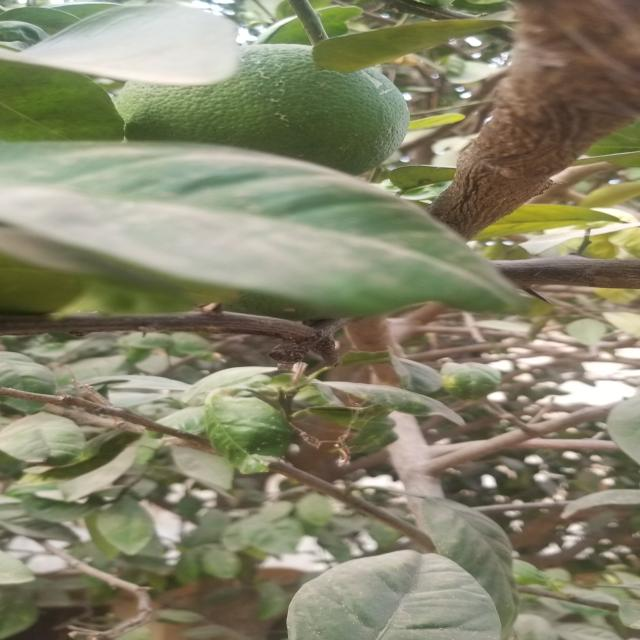Unripe: (104, 40, 424, 202)
